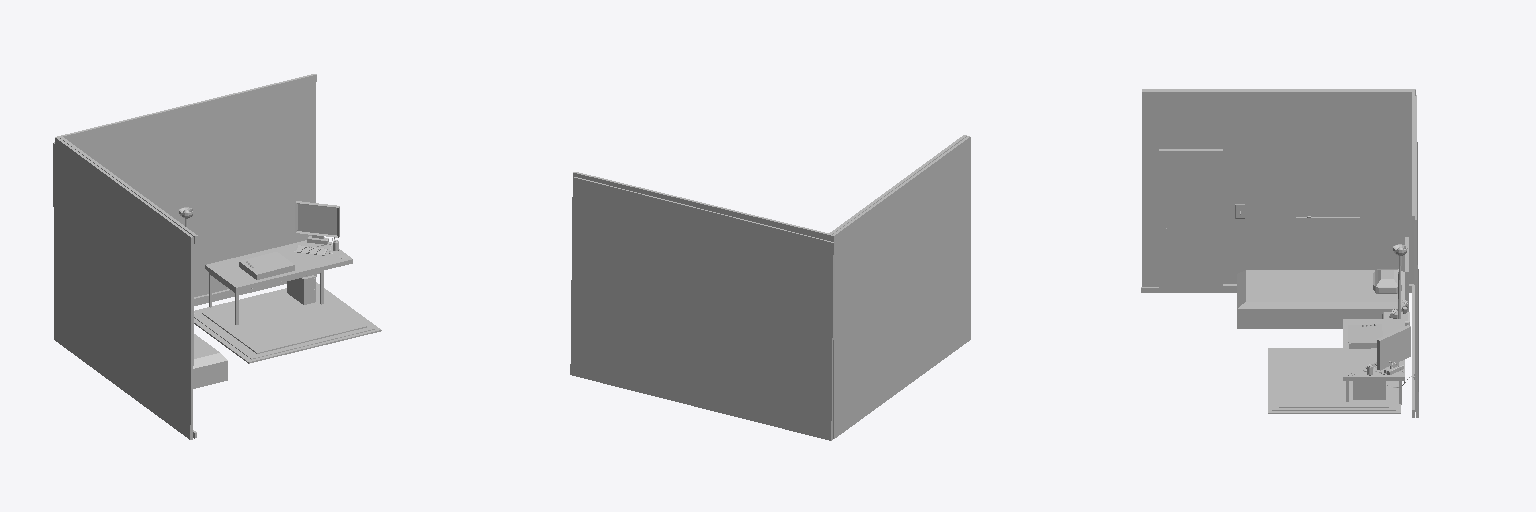
The model's file is studio-minimal-object.obj.
3 renders of one model, left to right at view 1: azimuth 30°, elevation 25°; view 2: azimuth 150°, elevation 25°; view 3: azimuth 270°, elevation 25°, orthographic.
Visible parts, largest first — view 1: group[number redacted], group[number redacted], group[number redacted], group[number redacted], group[number redacted], group[number redacted], group[number redacted], group[number redacted], group[number redacted], group[number redacted], group[number redacted]; view 2: group[number redacted], group[number redacted], group[number redacted]; view 3: group[number redacted], group[number redacted], group[number redacted], group[number redacted], group[number redacted], group[number redacted], group[number redacted], group[number redacted], group[number redacted], group[number redacted], group[number redacted], group[number redacted] (+3 smaller).
Boxes of the visible parts, <box> form: group[number redacted]: <box>54,136,193,439</box>; group[number redacted]: <box>53,82,315,296</box>; group[number redacted]: <box>202,290,366,353</box>; group[number redacted]: <box>58,74,316,243</box>; group[number redacted]: <box>205,240,352,291</box>; group[number redacted]: <box>295,201,339,244</box>; group[number redacted]: <box>194,286,374,359</box>; group[number redacted]: <box>193,334,227,388</box>; group[number redacted]: <box>194,282,381,363</box>; group[number redacted]: <box>239,252,294,279</box>; group[number redacted]: <box>287,275,315,304</box>; group[number redacted]: <box>570,177,834,440</box>; group[number redacted]: <box>831,136,970,438</box>; group[number redacted]: <box>573,135,966,240</box>; group[number redacted]: <box>1142,89,1415,292</box>; group[number redacted]: <box>1237,270,1404,328</box>; group[number redacted]: <box>1161,153,1219,291</box>; group[number redacted]: <box>1279,353,1388,407</box>; group[number redacted]: <box>1142,90,1414,223</box>; group[number redacted]: <box>1296,176,1359,218</box>; group[number redacted]: <box>1343,319,1404,380</box>; group[number redacted]: <box>1377,325,1410,374</box>; group[number redacted]: <box>1272,350,1395,410</box>; group[number redacted]: <box>1414,95,1418,417</box>; group[number redacted]: <box>1268,348,1400,413</box>; group[number redacted]: <box>1348,324,1382,348</box>.
Size of the model in its own units: 4.12 by 2.99 by 3.69.